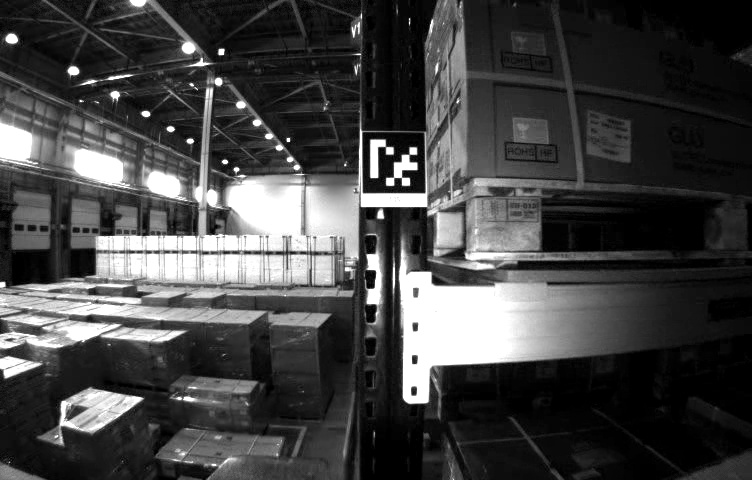True Barcode: (583, 107, 635, 163)
